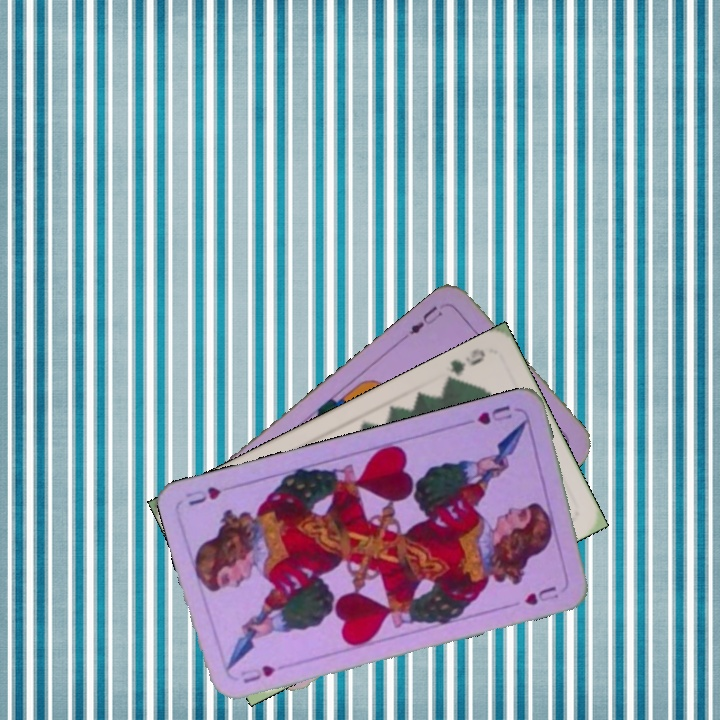EU: (405, 301, 445, 338)
G9: (441, 344, 488, 388)
HU: (473, 401, 515, 428), (236, 661, 278, 686)
